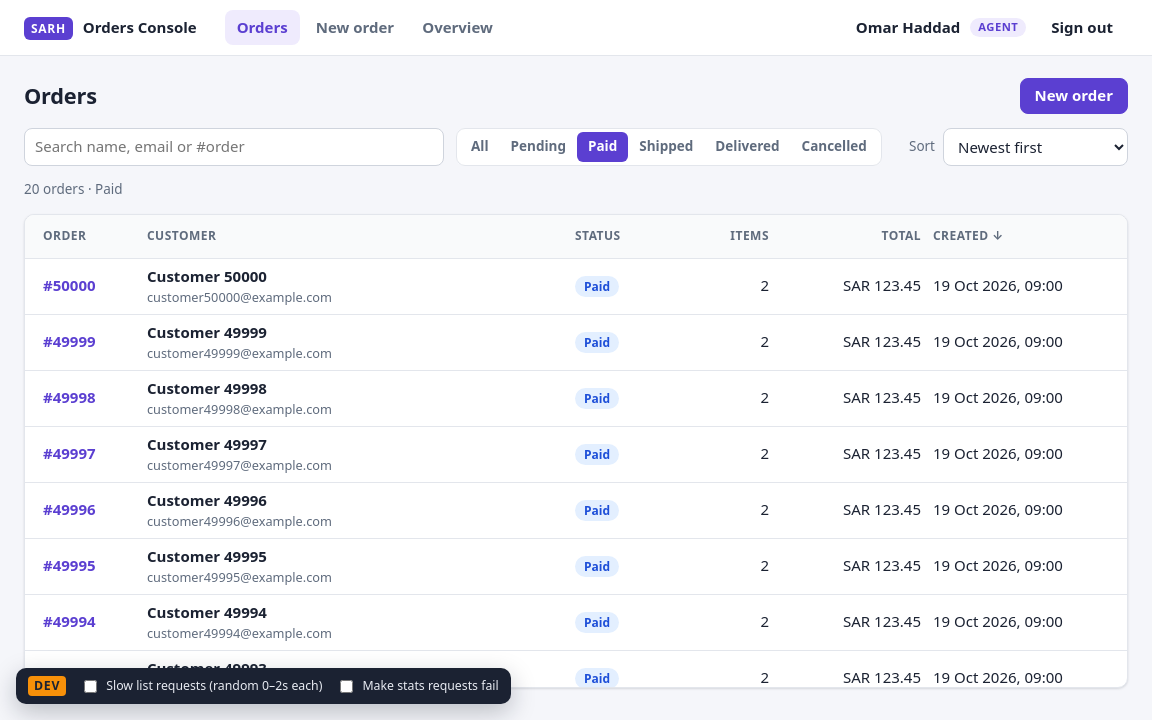
Test: OrdersPage › opens an order in a panel and closes it with Escape, keeping the filters
This screenshot has width=1152, height=720.
Click the link "#50000": (48, 285) [43, 275, 96, 295]
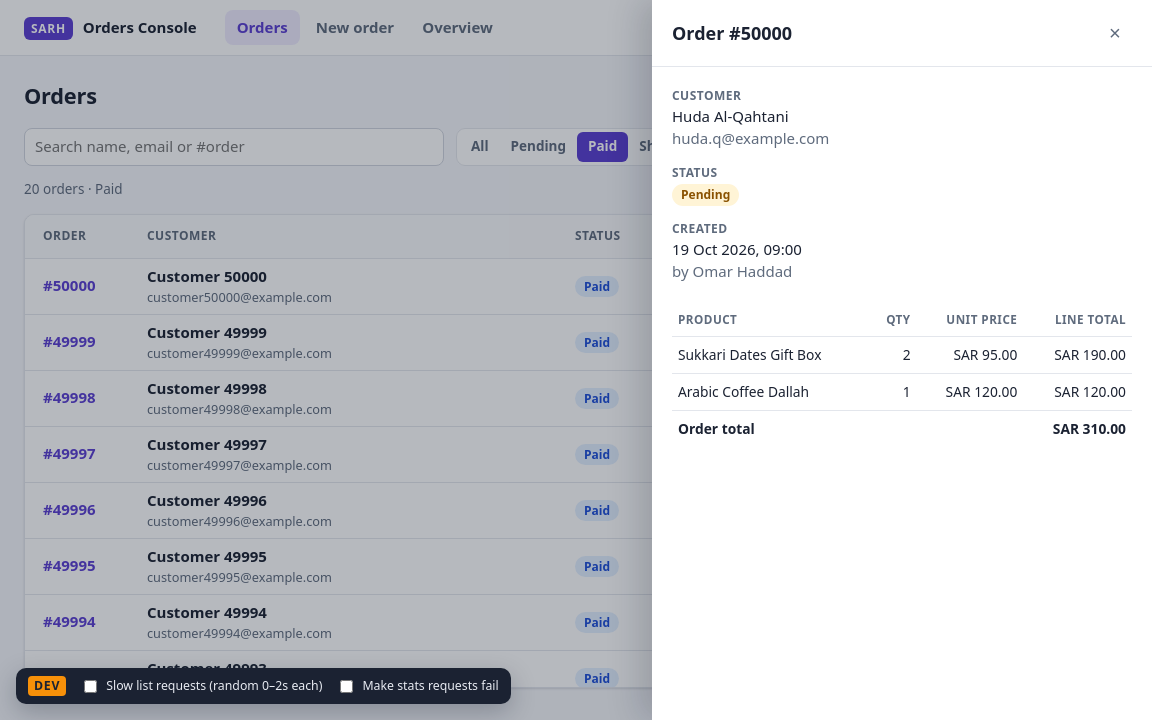
Expected: the text "Sukkari Dates Gift Box" is shown, [672, 336, 870, 373]
Expected: the text "by Omar Haddad" is shown, [672, 261, 792, 281]
Press Escape
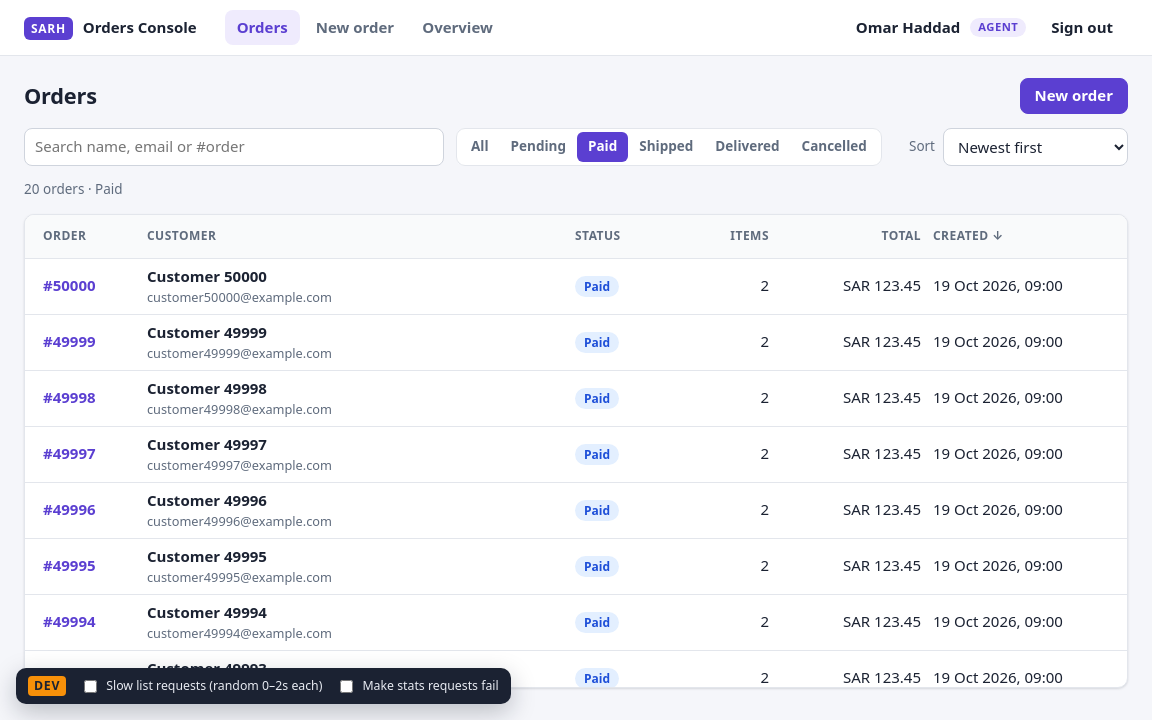
Expected: the dialog is gone
